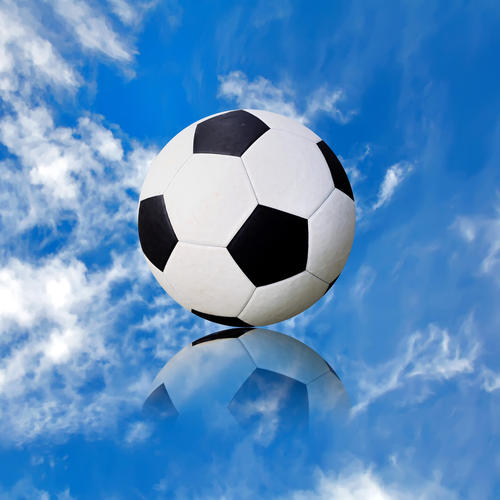football: (144, 106, 360, 327), (137, 332, 360, 442)
